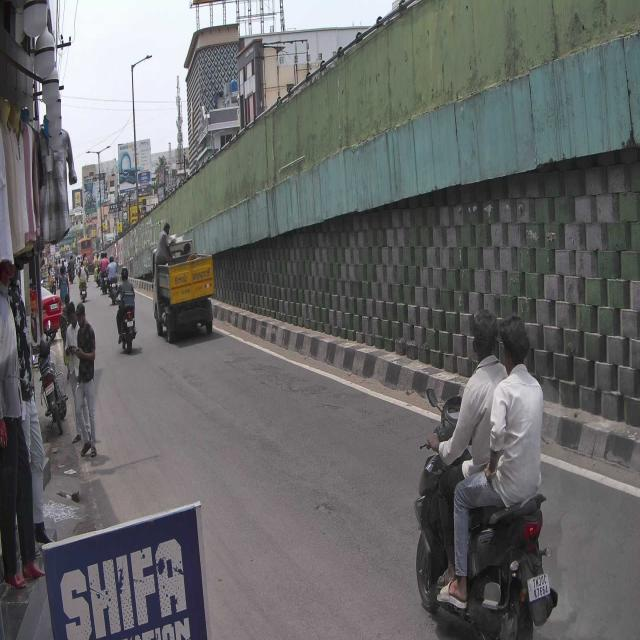double_rider: (412, 309, 558, 640)
